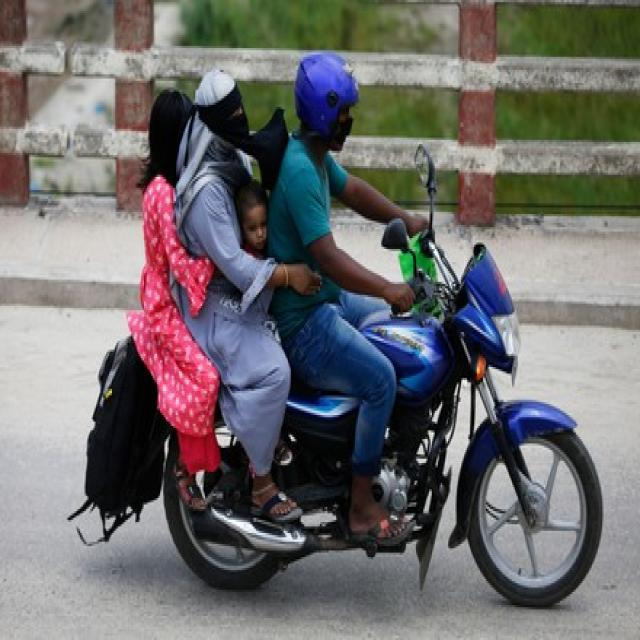bike: (108, 249, 606, 600)
